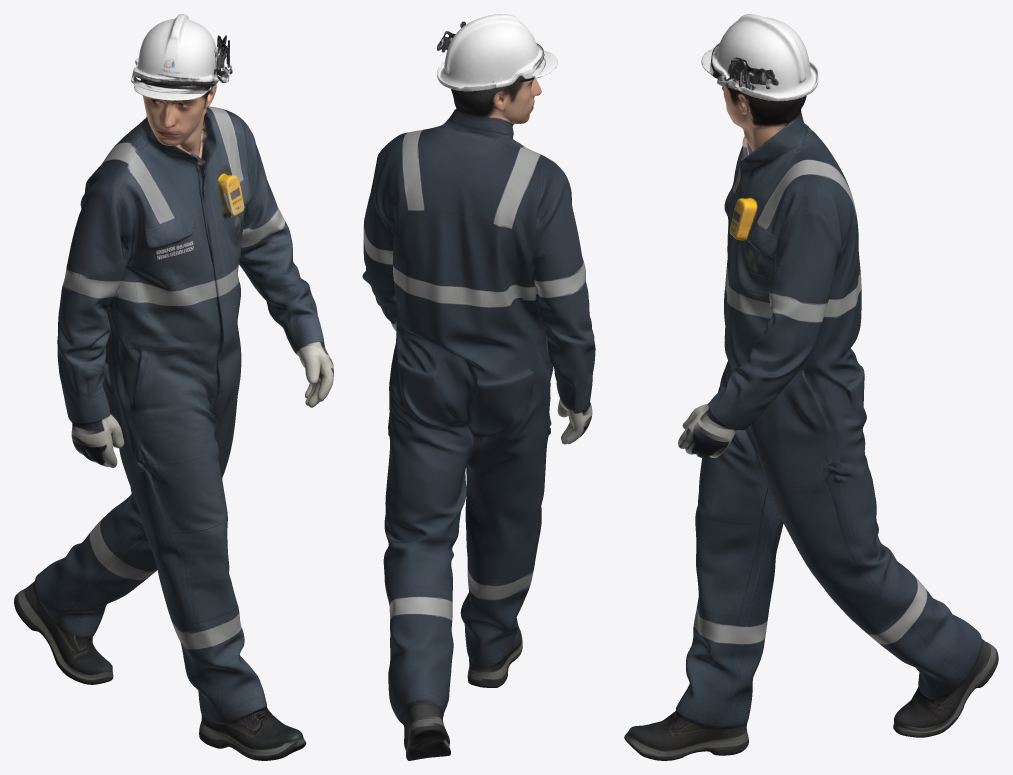
File: industrial_safety_worker_walking.glb
3 renders of one model, left to right at view 1: azimuth 30°, elevation 25°; view 2: azimuth 150°, elevation 25°; view 3: azimuth 270°, elevation 25°, orthographic. The views are drawn at different scales.
Visible parts, largest first — view 1: Object_5, Object_6, Object_7; view 2: Object_6, Object_5; view 3: Object_6, Object_5.
Boxes of the visible parts, left/top/right/bottom form: Object_5: left=71, top=24, right=333, bottom=760; Object_6: left=14, top=14, right=316, bottom=684; Object_7: left=70, top=41, right=260, bottom=466; Object_6: left=362, top=14, right=595, bottom=760; Object_5: left=363, top=14, right=595, bottom=687; Object_6: left=698, top=14, right=998, bottom=737; Object_5: left=624, top=14, right=871, bottom=760.
Bounding box in the file's own units: 0.6691 × 1.9 × 0.8968.
Materials: 1 (1 with a texture image).
